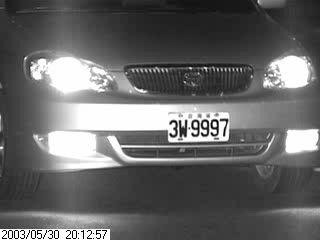plate: (165, 110, 231, 143)
